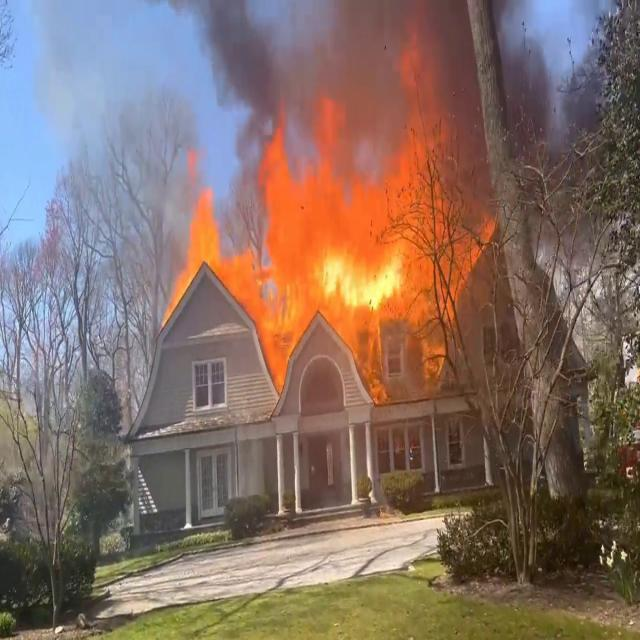Fire: (167, 119, 456, 374)
Smoke: (184, 0, 460, 170)
